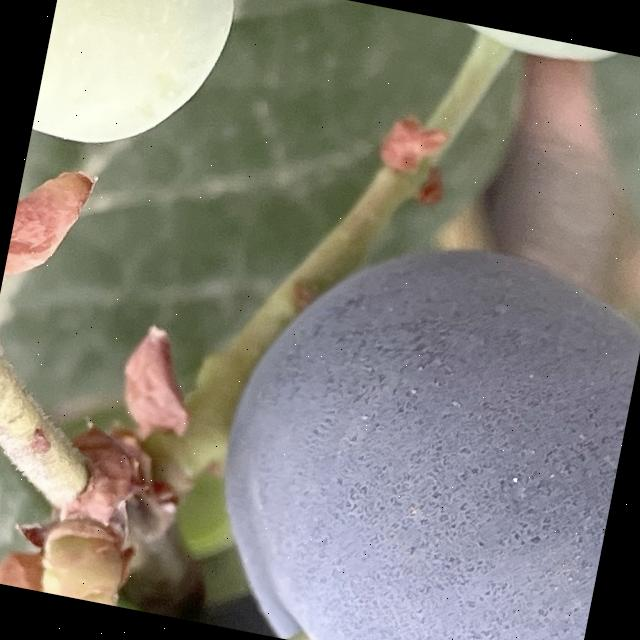Blueberries: (188, 206, 640, 640)
